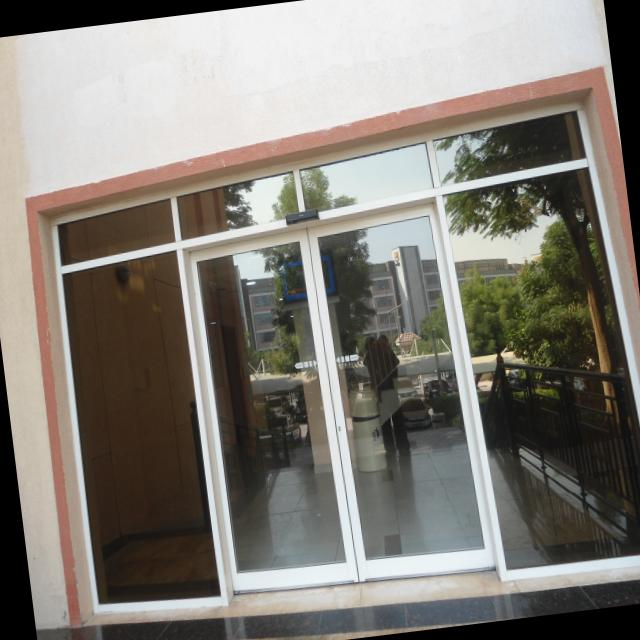door: (148, 112, 513, 640)
dustbin: (346, 390, 391, 482)
window: (422, 107, 640, 605), (38, 182, 224, 618)
